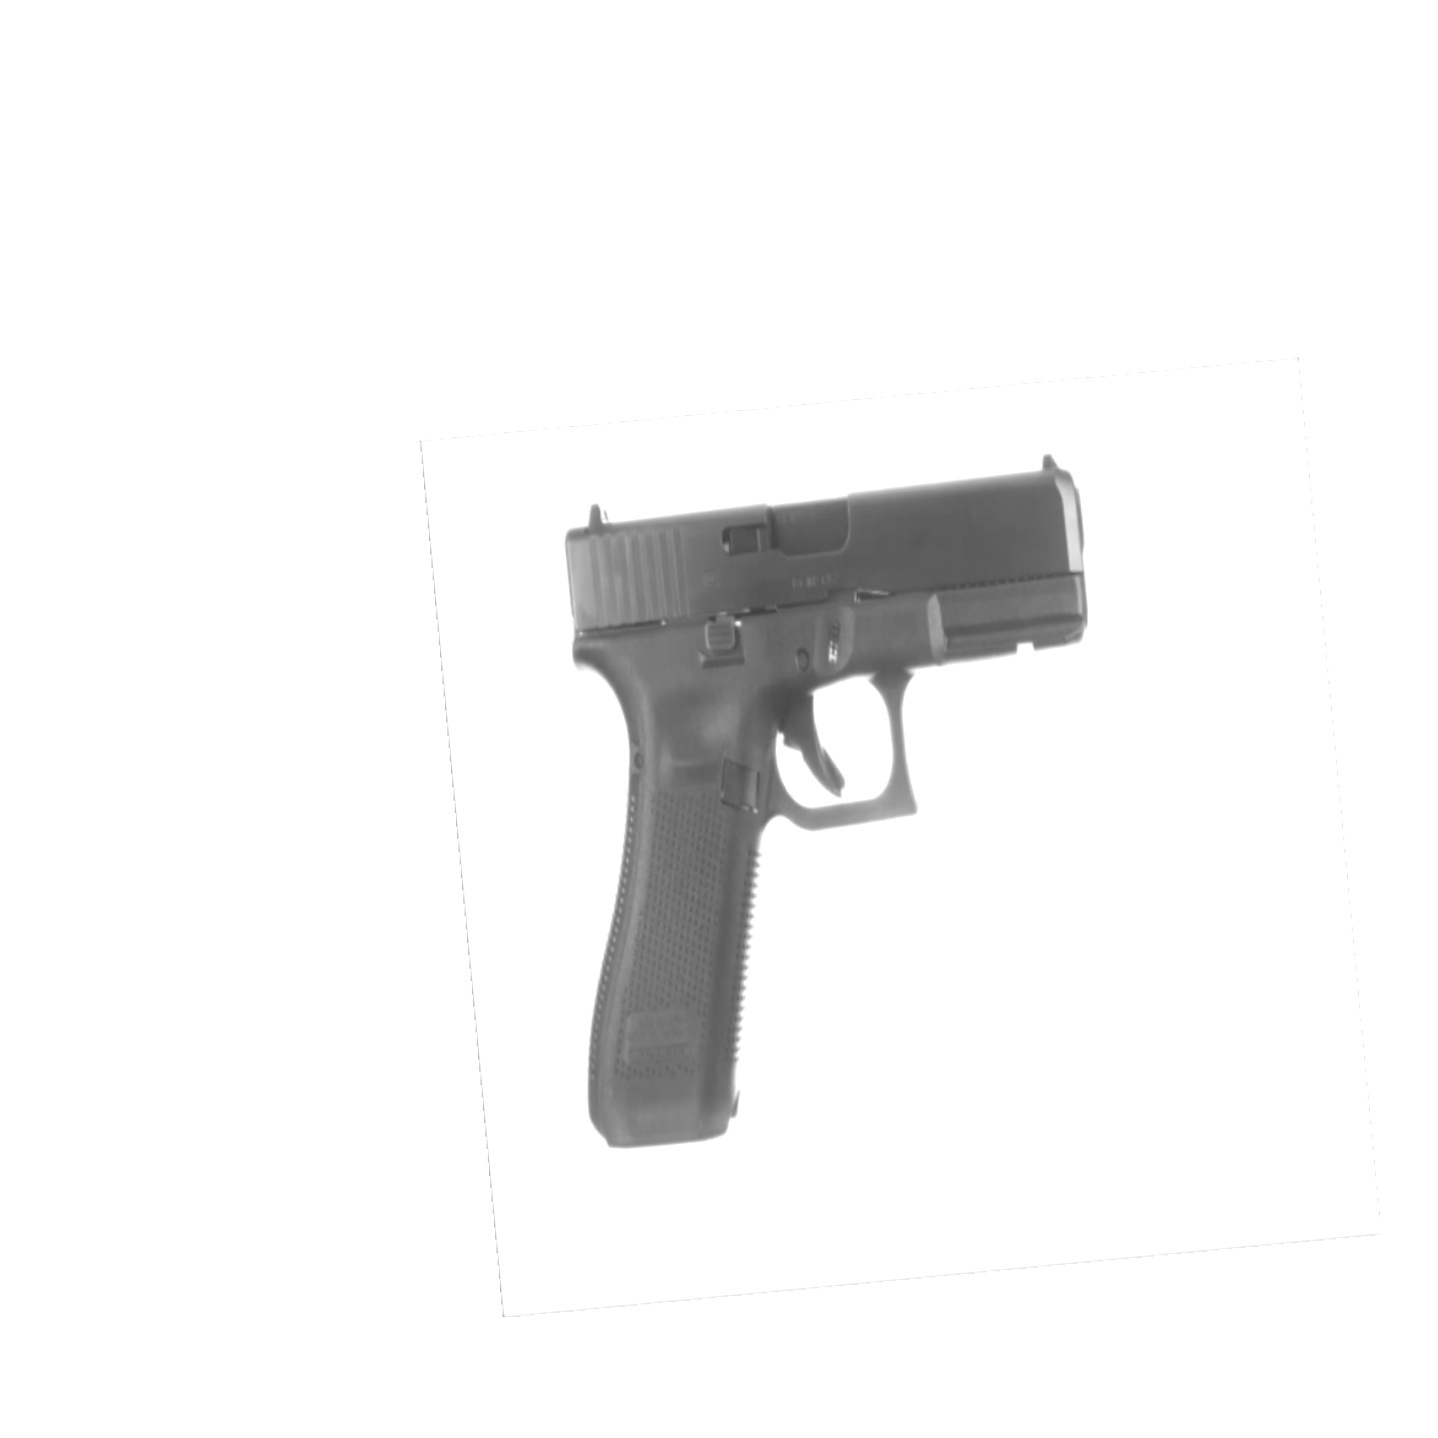gun: (550, 449, 1100, 1144)
